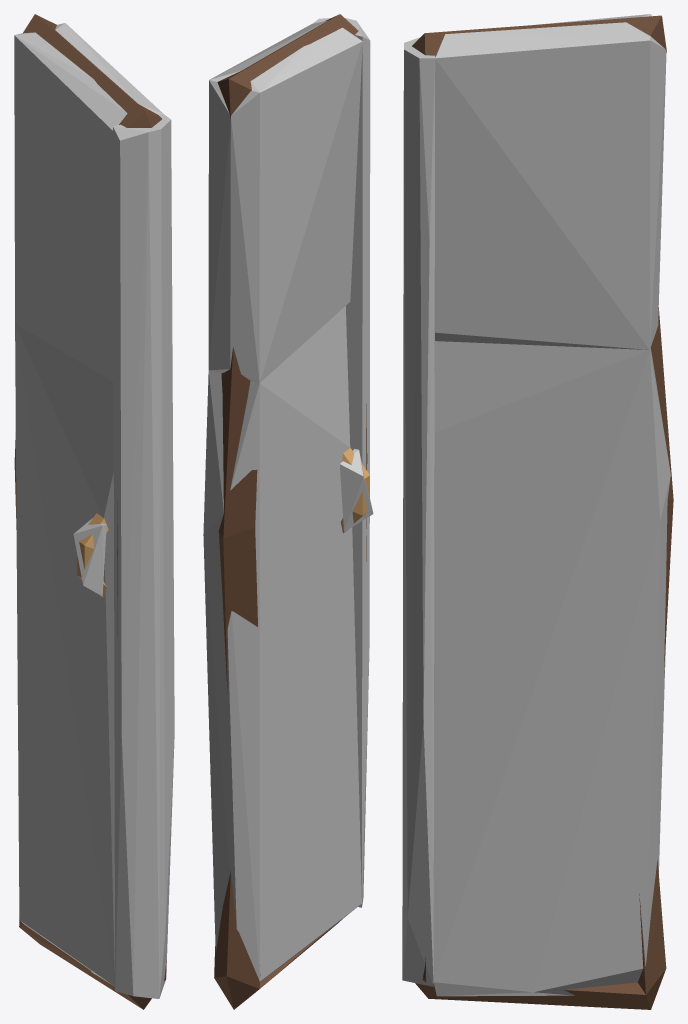
Rendered from SM_Prop_Cabinet_02_Door_01.fbx.
3 views of the same model, side by side, from view 1: azimuth 30°, elevation 25°; view 2: azimuth 150°, elevation 25°; view 3: azimuth 270°, elevation 25° (orthographic). The views are drawn at different scales.
Parts seen in each view (by area): view 1: SM_Prop_Cabinet_02_Door_01_ConvexHulls, SM_Prop_Cabinet_02_Door_01; view 2: SM_Prop_Cabinet_02_Door_01_ConvexHulls, SM_Prop_Cabinet_02_Door_01; view 3: SM_Prop_Cabinet_02_Door_01_ConvexHulls, SM_Prop_Cabinet_02_Door_01.
Boxes of the visible parts, box(x1,y1,x2,y2) form: SM_Prop_Cabinet_02_Door_01_ConvexHulls: box(14, 23, 174, 998); SM_Prop_Cabinet_02_Door_01: box(14, 14, 166, 1009); SM_Prop_Cabinet_02_Door_01_ConvexHulls: box(203, 17, 373, 981); SM_Prop_Cabinet_02_Door_01: box(214, 14, 369, 1009); SM_Prop_Cabinet_02_Door_01_ConvexHulls: box(402, 14, 670, 996); SM_Prop_Cabinet_02_Door_01: box(412, 15, 673, 1009).
Bounding box in the file's own units: 14.05 × 40.31 × 163.
2 materials, 1 textured.
